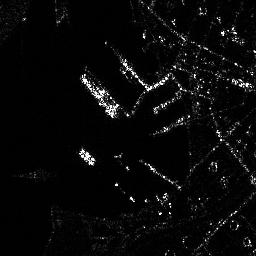ship: (78, 74, 119, 118)
